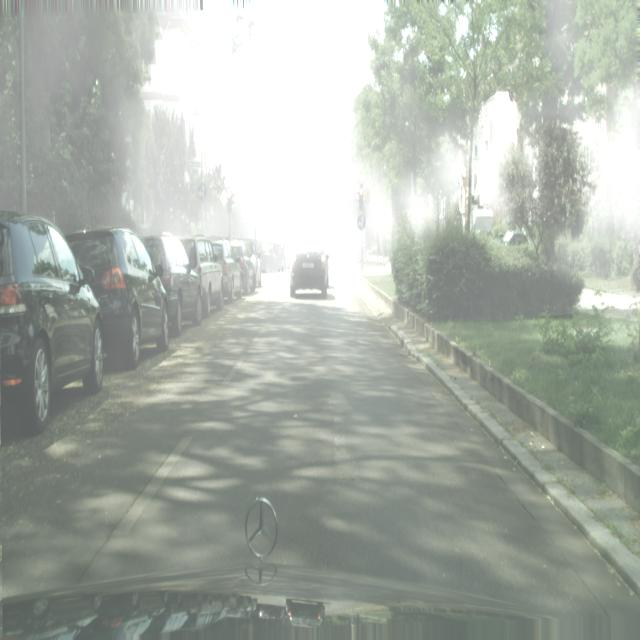person: (0, 212, 105, 434), (66, 225, 170, 369), (142, 234, 204, 336), (185, 238, 224, 314), (290, 236, 329, 298), (211, 238, 242, 302), (231, 241, 257, 294), (259, 239, 283, 272)
